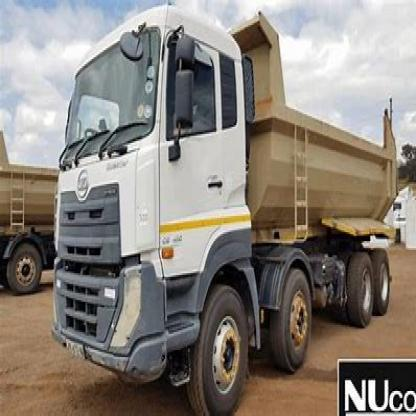dump_truck: (52, 6, 402, 414)
